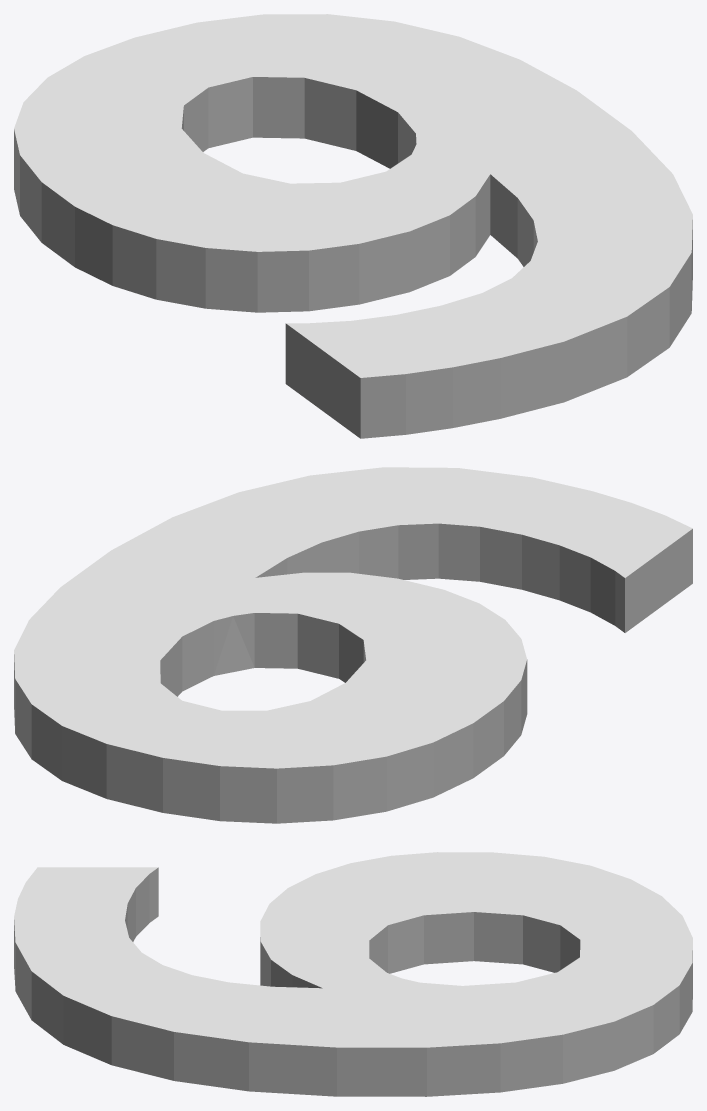
The model's file is shuzi09.FBX.
The picture shows the model from 3 angles, top to bottom: view 1: azimuth 30°, elevation 25°; view 2: azimuth 150°, elevation 25°; view 3: azimuth 270°, elevation 25°; orthographic projection. The views are drawn at different scales.
Parts seen in each view (by area): view 1: shuzi09; view 2: shuzi09; view 3: shuzi09.
Boxes of the visible parts, left/top/right/bottom form: shuzi09: left=14, top=14, right=692, bottom=438; shuzi09: left=14, top=467, right=692, bottom=823; shuzi09: left=14, top=852, right=692, bottom=1096.
Bounding box in the file's own units: 76.38 × 8.95 × 112.
